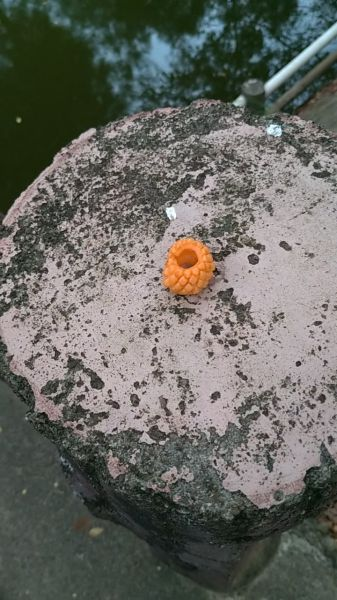eggs: (157, 234, 219, 301)
